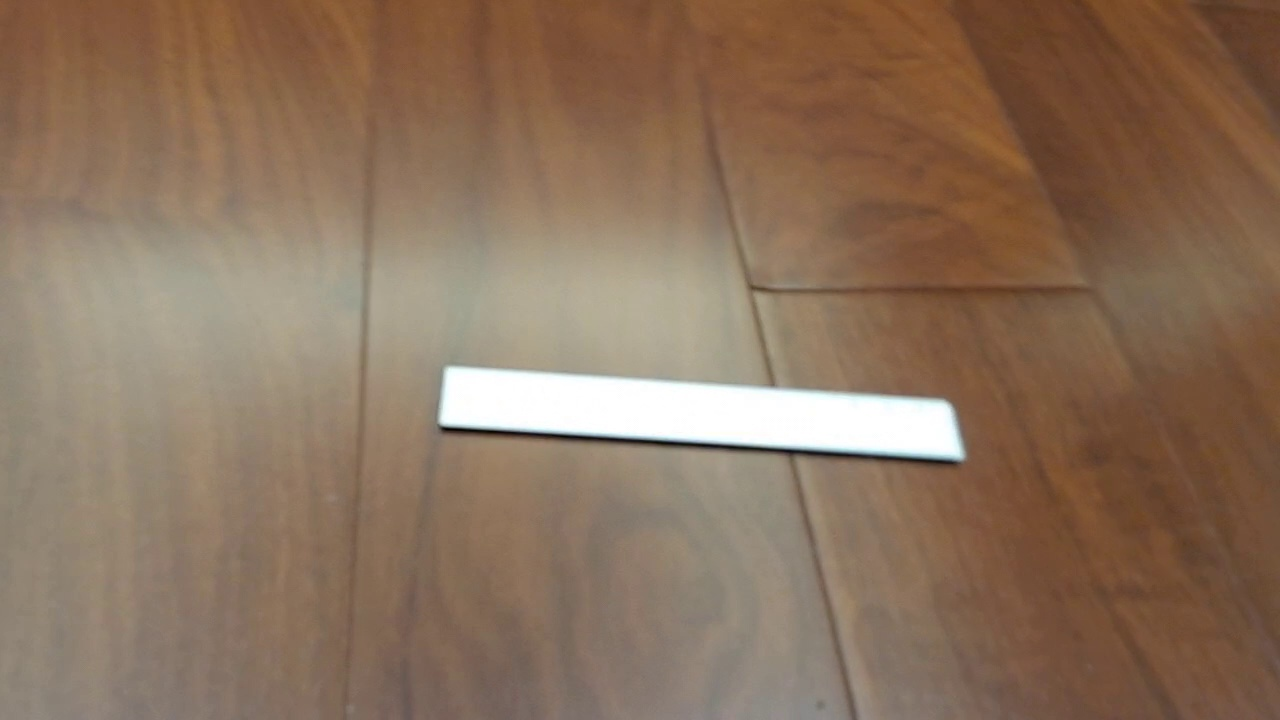ruler: (435, 363, 969, 466)
